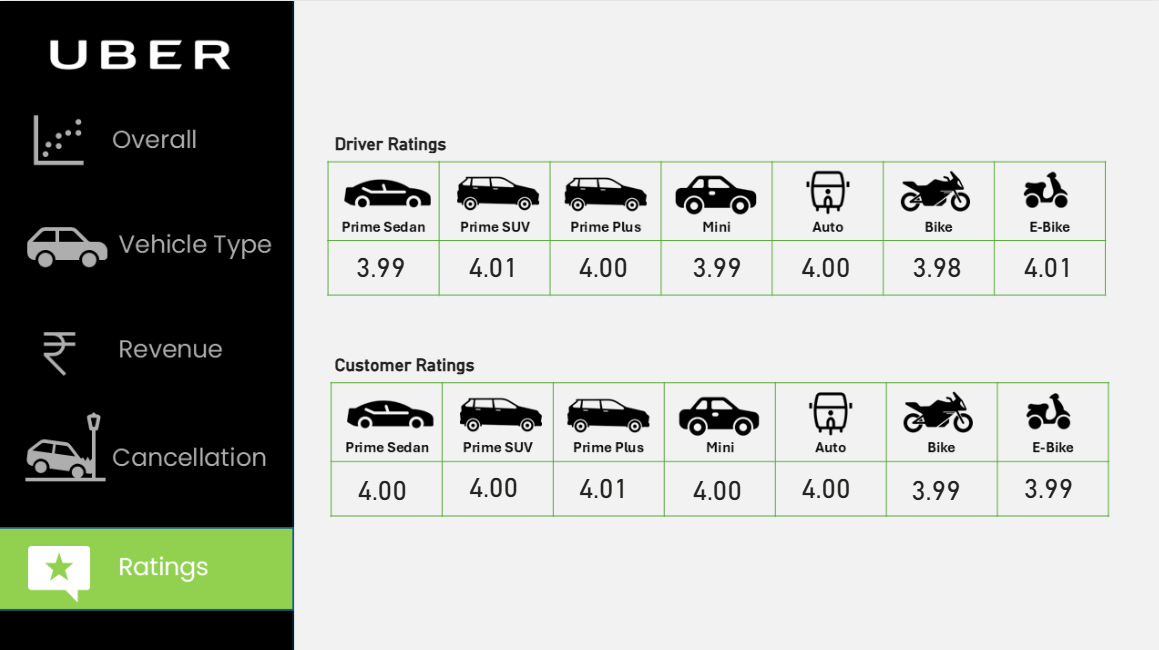

What the dashboard file says about the page in this screenshot:
{"tool":"powerbi","page":{"name":"Ratings","canvas":[1280,720],"ordinal":4},"visuals":[{"type":"actionButton","box":[0,98,323.1,96.5],"z":0},{"type":"actionButton","box":[0,222.1,322.7,92],"z":1000},{"type":"actionButton","box":[1.5,333.9,323.1,107.2],"z":2000},{"type":"actionButton","box":[0,451.5,322.7,90.8],"z":3000},{"type":"card","fields":{"Values":["Avg(July.Driver_Ratings)"]},"box":[364.5,268,108.7,45.9],"z":4000},{"type":"card","fields":{"Values":["Avg(July.Driver_Ratings)"]},"box":[488.5,268,108.7,45.9],"z":5000},{"type":"card","fields":{"Values":["Avg(July.Driver_Ratings)"]},"box":[609.5,268,108.7,45.9],"z":6000},{"type":"card","fields":{"Values":["Avg(July.Driver_Ratings)"]},"box":[733.6,268,108.7,45.9],"z":7000},{"type":"card","fields":{"Values":["Avg(July.Driver_Ratings)"]},"box":[853,268,108.7,45.9],"z":8000},{"type":"card","fields":{"Values":["Avg(July.Driver_Ratings)"]},"box":[975.5,268,108.7,45.9],"z":9000},{"type":"card","fields":{"Values":["Avg(July.Driver_Ratings)"]},"box":[1098.1,268,108.7,45.9],"z":10000},{"type":"card","fields":{"Values":["Avg(July.Customer_Rating)"]},"box":[367,511.3,109.3,46.2],"z":11000},{"type":"textbox","title":"Driver Ratings","box":[364.2,145.7,179.3,29.4],"z":12000},{"type":"textbox","title":"Customer Ratings","box":[364.2,388,179.3,28],"z":13000},{"type":"card","fields":{"Values":["Avg(July.Customer_Rating)"]},"box":[488.9,508.5,109.3,46.2],"z":14000},{"type":"card","fields":{"Values":["Avg(July.Customer_Rating)"]},"box":[609.3,509.9,109.3,46.2],"z":15000},{"type":"card","fields":{"Values":["Avg(July.Customer_Rating)"]},"box":[734,511.3,109.3,46.2],"z":16000},{"type":"card","fields":{"Values":["Avg(July.Customer_Rating)"]},"box":[853.1,509.9,109.3,46.2],"z":17000},{"type":"card","fields":{"Values":["Avg(July.Customer_Rating)"]},"box":[974.9,511.3,109.3,46.2],"z":18000},{"type":"card","fields":{"Values":["Avg(July.Customer_Rating)"]},"box":[1098.2,509.9,109.3,46.2],"z":19000}]}

Visuals, with their boxes in screenshot pixels (x1, y1, x2, y2), scaled from the page's 1280x720 canvas onto the 1159x650 screenshot:
actionButton: [x1=0, y1=88, x2=293, y2=176]
actionButton: [x1=0, y1=201, x2=292, y2=284]
actionButton: [x1=1, y1=301, x2=294, y2=398]
actionButton: [x1=0, y1=408, x2=292, y2=490]
card - Avg(July.Driver_Ratings): [x1=330, y1=242, x2=428, y2=283]
card - Avg(July.Driver_Ratings): [x1=442, y1=242, x2=541, y2=283]
card - Avg(July.Driver_Ratings): [x1=552, y1=242, x2=650, y2=283]
card - Avg(July.Driver_Ratings): [x1=664, y1=242, x2=763, y2=283]
card - Avg(July.Driver_Ratings): [x1=772, y1=242, x2=871, y2=283]
card - Avg(July.Driver_Ratings): [x1=883, y1=242, x2=982, y2=283]
card - Avg(July.Driver_Ratings): [x1=994, y1=242, x2=1093, y2=283]
card - Avg(July.Customer_Rating): [x1=332, y1=462, x2=431, y2=503]
"Driver Ratings" textbox: [x1=330, y1=132, x2=492, y2=158]
"Customer Ratings" textbox: [x1=330, y1=350, x2=492, y2=376]
card - Avg(July.Customer_Rating): [x1=443, y1=459, x2=542, y2=501]
card - Avg(July.Customer_Rating): [x1=552, y1=460, x2=651, y2=502]
card - Avg(July.Customer_Rating): [x1=665, y1=462, x2=764, y2=503]
card - Avg(July.Customer_Rating): [x1=772, y1=460, x2=871, y2=502]
card - Avg(July.Customer_Rating): [x1=883, y1=462, x2=982, y2=503]
card - Avg(July.Customer_Rating): [x1=994, y1=460, x2=1093, y2=502]
